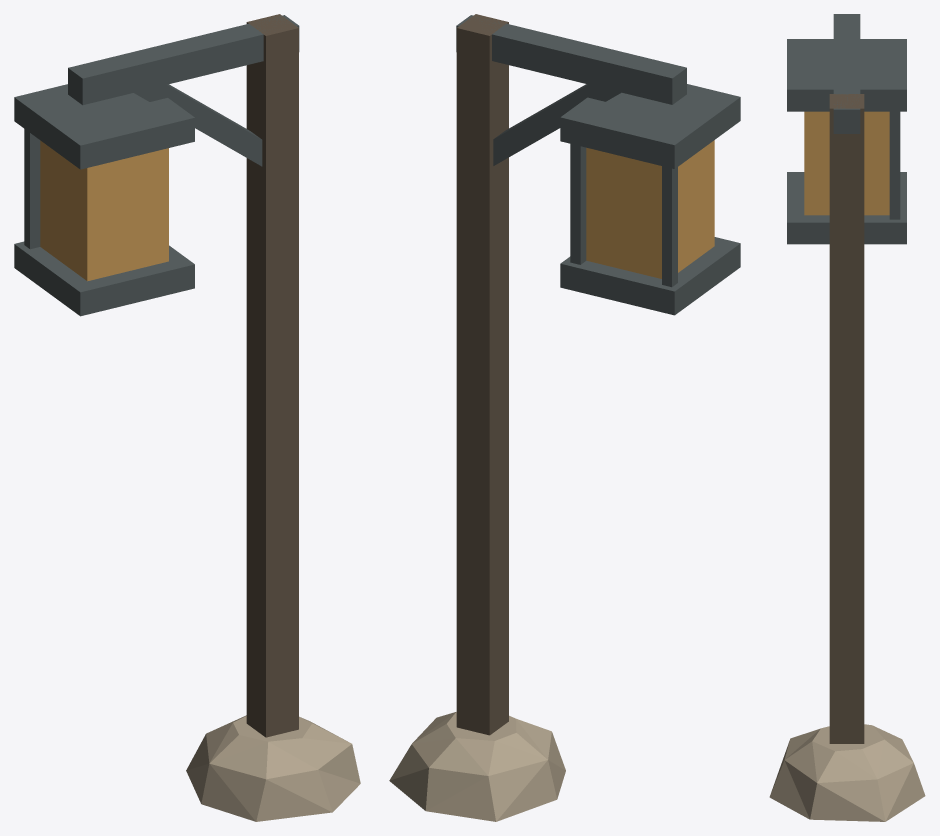
File: Decor_LanternPost.fbx
3 views of the same model, side by side, from view 1: azimuth 30°, elevation 25°; view 2: azimuth 150°, elevation 25°; view 3: azimuth 270°, elevation 25° (orthographic). The views are drawn at different scales.
Visible parts, largest first — view 1: Decor_LanternPost; view 2: Decor_LanternPost; view 3: Decor_LanternPost.
Boxes of the visible parts, x1=… form: Decor_LanternPost: x1=14, y1=14, x2=360, y2=821; Decor_LanternPost: x1=389, y1=14, x2=740, y2=821; Decor_LanternPost: x1=769, y1=14, x2=925, y2=821.
Bounding box in the file's own units: 1.17 × 2.85 × 0.5855.
